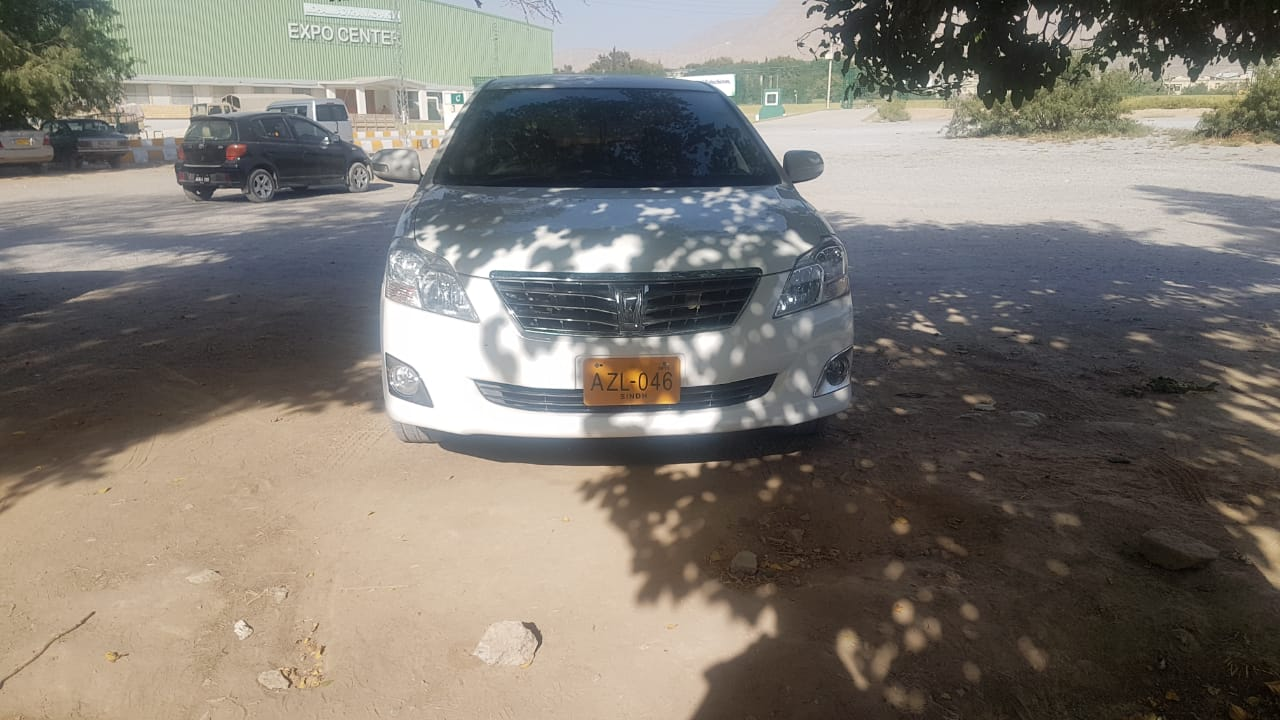license plate: (582, 357, 680, 405)
